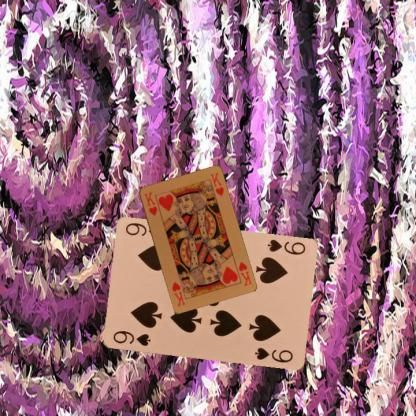9s: (110, 328, 152, 348), (264, 236, 306, 256)
Kh: (235, 258, 254, 288), (142, 190, 158, 216)
